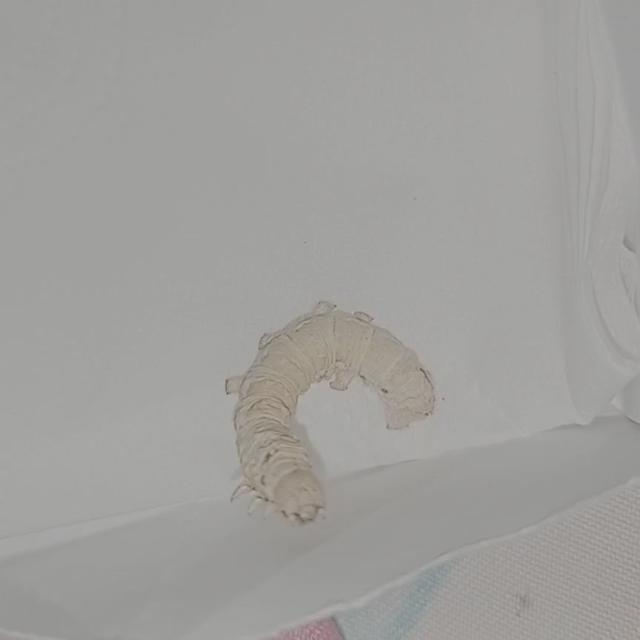Healthy: (194, 272, 472, 562)
